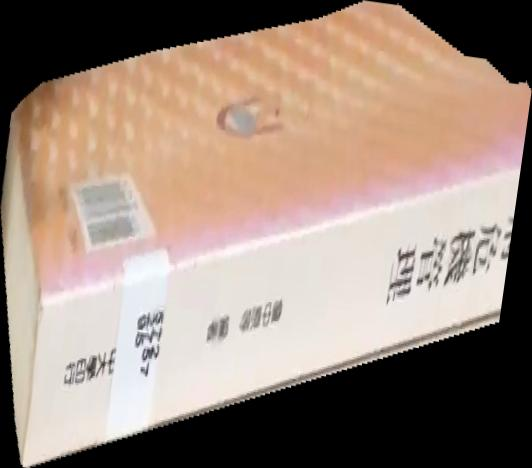flat: (1, 1, 532, 468)
